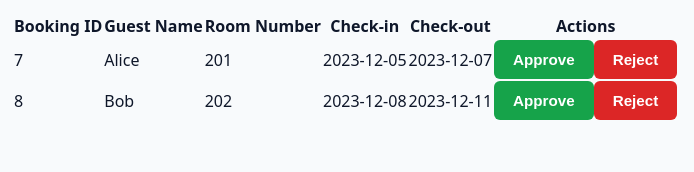
Scenario: AdminPanel › shows only pending bookings and approve/reject
Check: the text "Alice" is shown, box [104, 40, 203, 79]
Check: the text "201" is shown, box [205, 40, 321, 79]
Click the button "Approve" in the row of "Alice" at point(544, 60), box [494, 40, 594, 79]
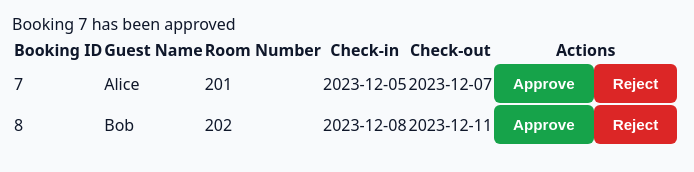
Check: the text "Booking 7 has been approved" is shown, box [12, 13, 236, 35]
